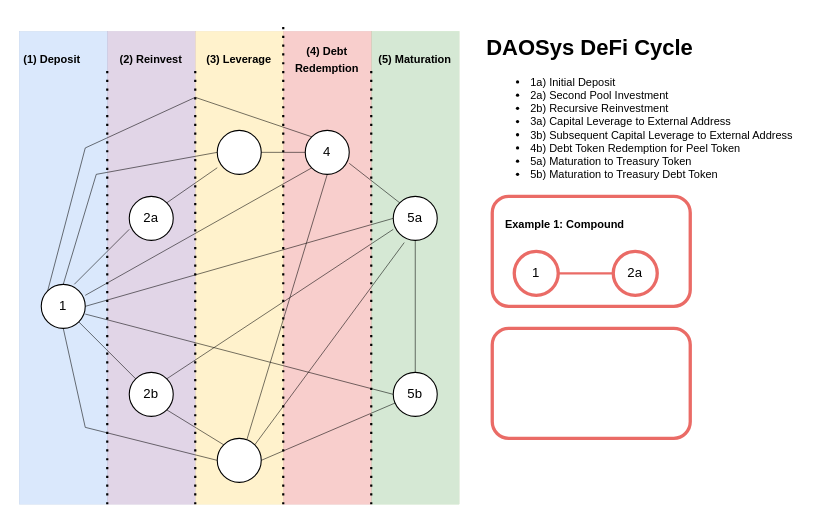
This 818x525 diagram has some shape labels left out. Here are the shapes that lost their labels. From the top down, the centre of each, then its label:
At point (238, 151): "3a".
At point (590, 382): "Example 2: xxx".
At point (238, 459): "3b".
